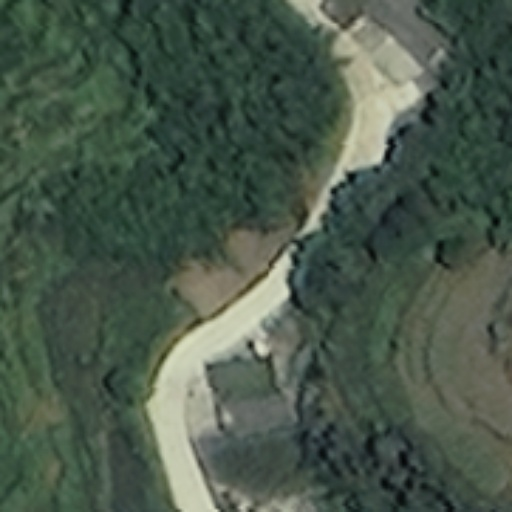landslide: (164, 224, 286, 318)
